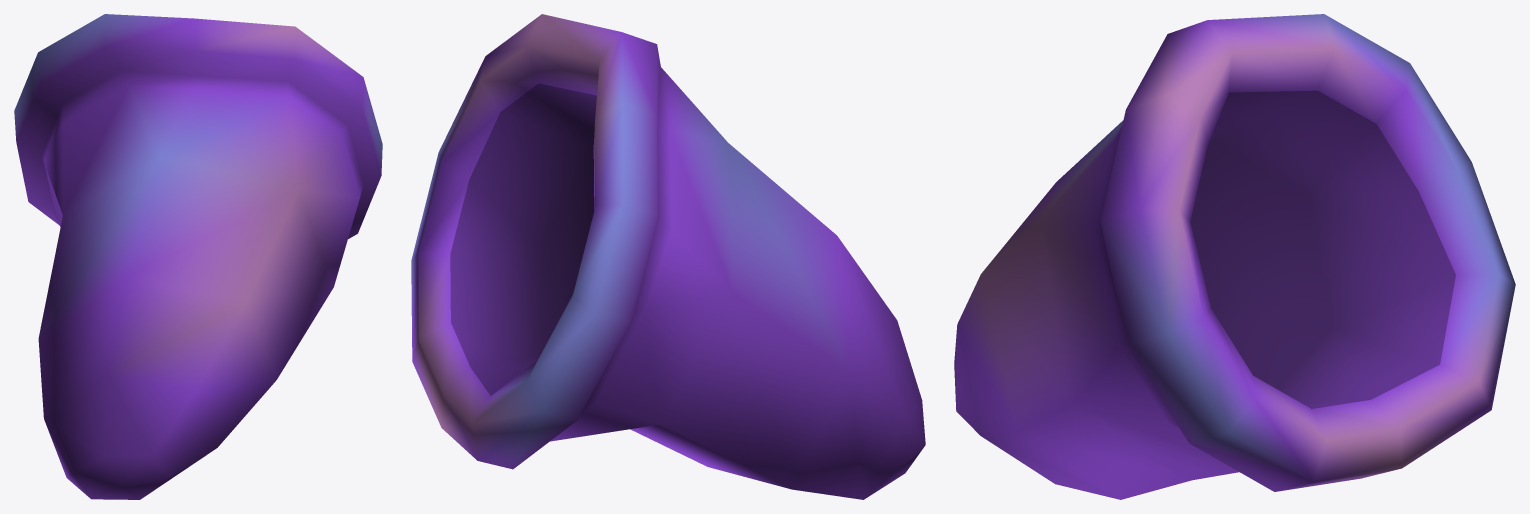
Rendered from CoralPipeCPurple.fbx.
3 renders of one model, left to right at view 1: azimuth 30°, elevation 25°; view 2: azimuth 150°, elevation 25°; view 3: azimuth 270°, elevation 25°, orthographic. The views are drawn at different scales.
Visible parts, largest first — view 1: CoralPipeCPurple; view 2: CoralPipeCPurple; view 3: CoralPipeCPurple.
Part boxes in pixels (x1,y1,x2,y2): CoralPipeCPurple: (14, 14, 382, 499); CoralPipeCPurple: (411, 14, 925, 499); CoralPipeCPurple: (954, 14, 1515, 499).
Bounding box in the file's own units: 37.49 × 39.12 × 37.73.
